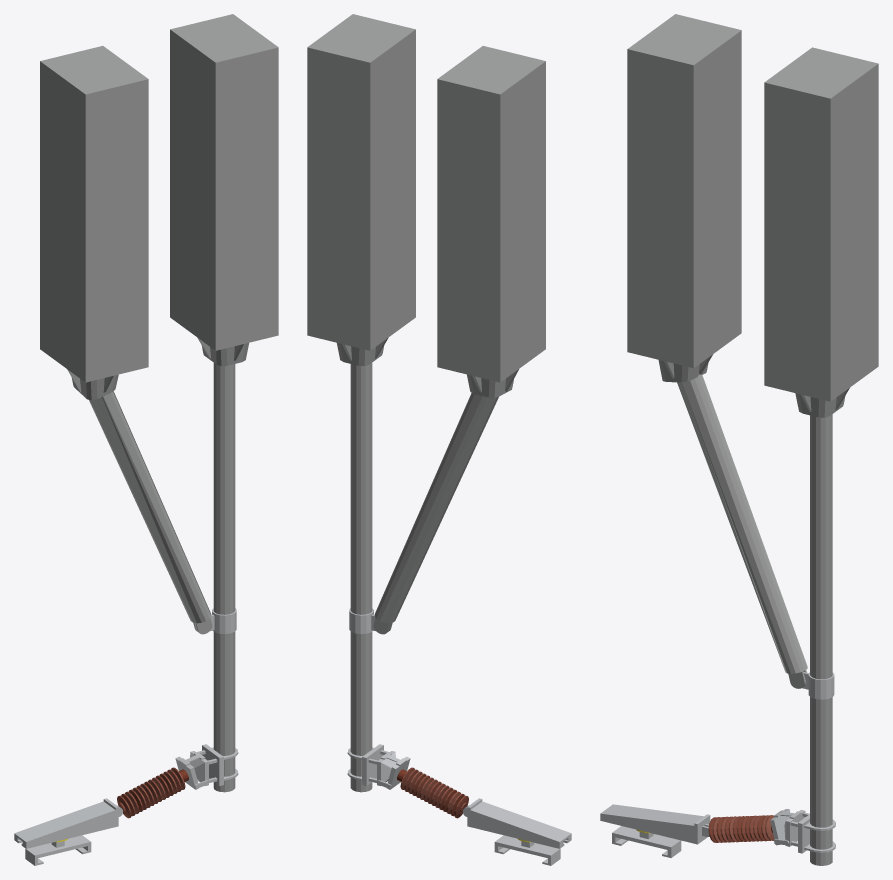
The model's file is rcr.obj.
3 views of the same model, side by side, from view 1: azimuth 30°, elevation 25°; view 2: azimuth 150°, elevation 25°; view 3: azimuth 330°, elevation 25° (orthographic). The views are drawn at different scales.
Parts seen in each view (by area): view 1: 1.001; view 2: 1.001; view 3: 1.001.
Part boxes in pixels (<box>): 1.001: <box>14,14,278,865</box>; 1.001: <box>307,14,571,865</box>; 1.001: <box>600,14,878,865</box>.
Bounding box in the file's own units: 0.8884 × 2.8 × 0.2979.
1 material, 1 textured.
